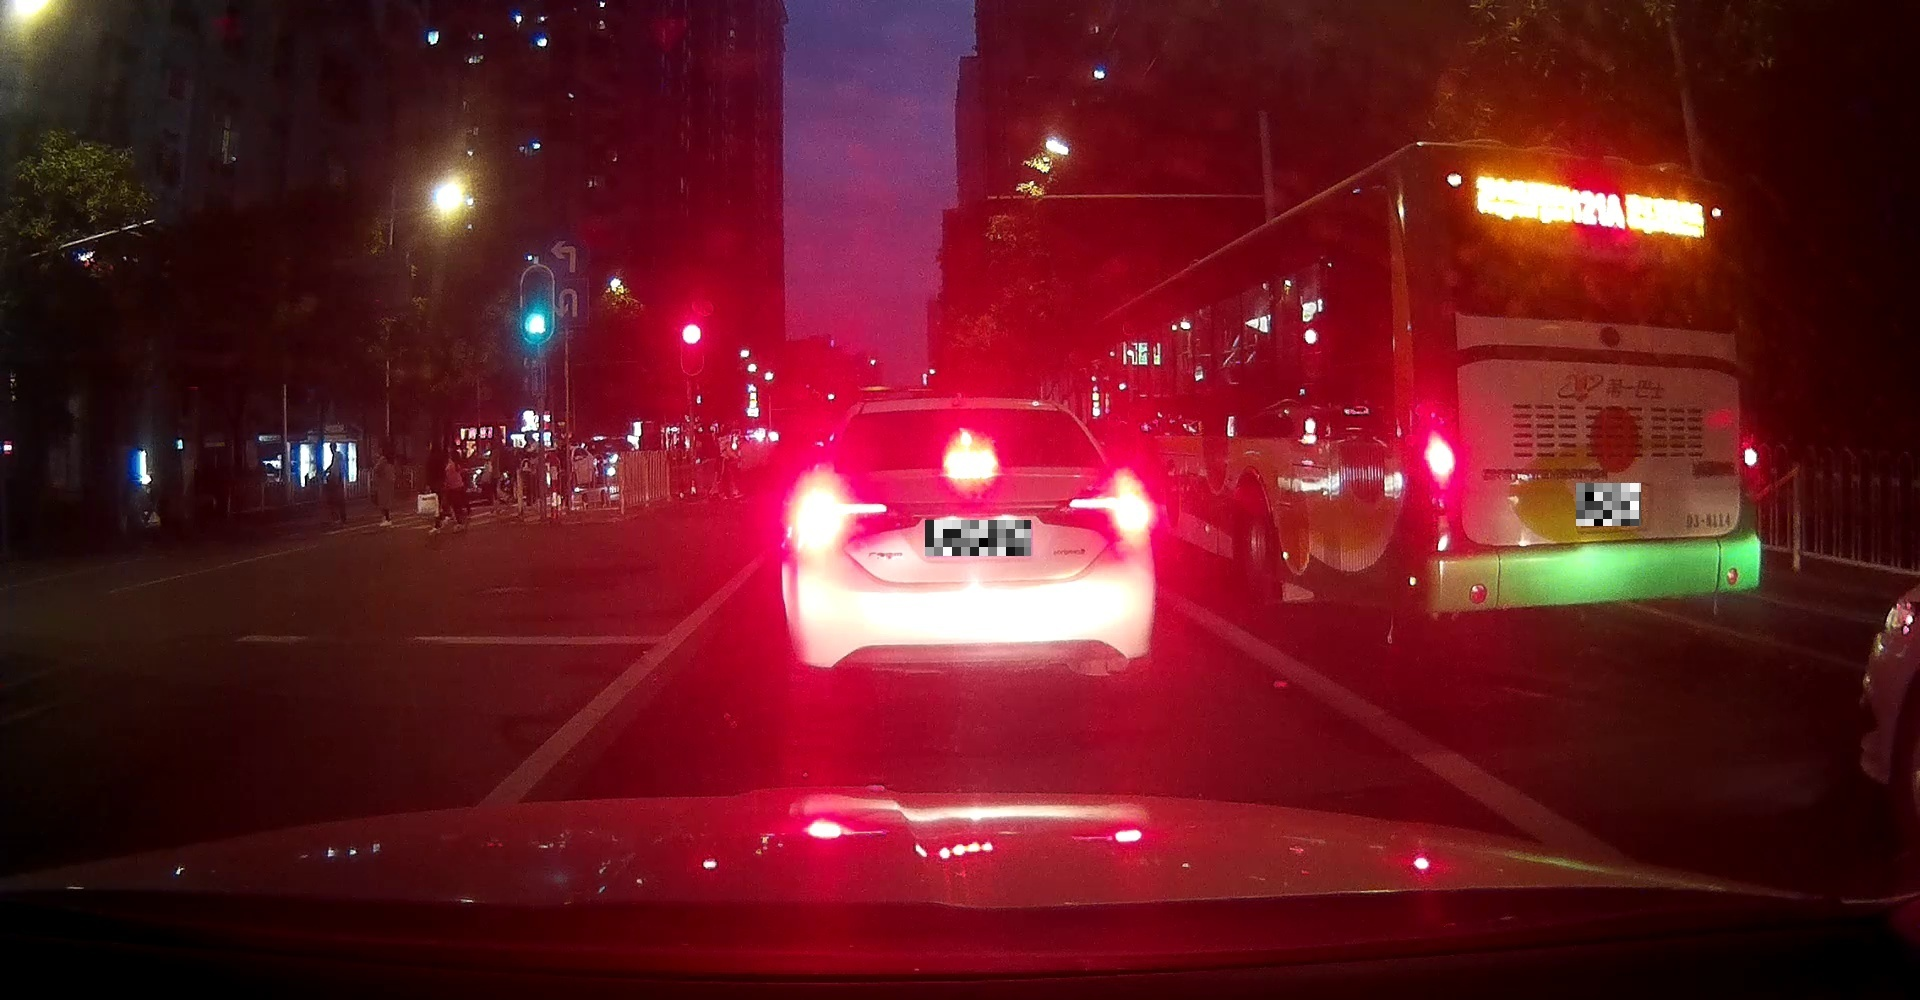L_light: (792, 484, 888, 551), (1423, 426, 1457, 492)
R_light: (1074, 481, 1150, 536), (1741, 437, 1759, 489)
T_light: (943, 451, 997, 473), (1572, 173, 1622, 187)
night-brake: (780, 398, 1156, 694)
night-left: (1418, 140, 1761, 618)
plate_1: (924, 520, 1031, 556)
plate_2: (1576, 484, 1641, 525)
